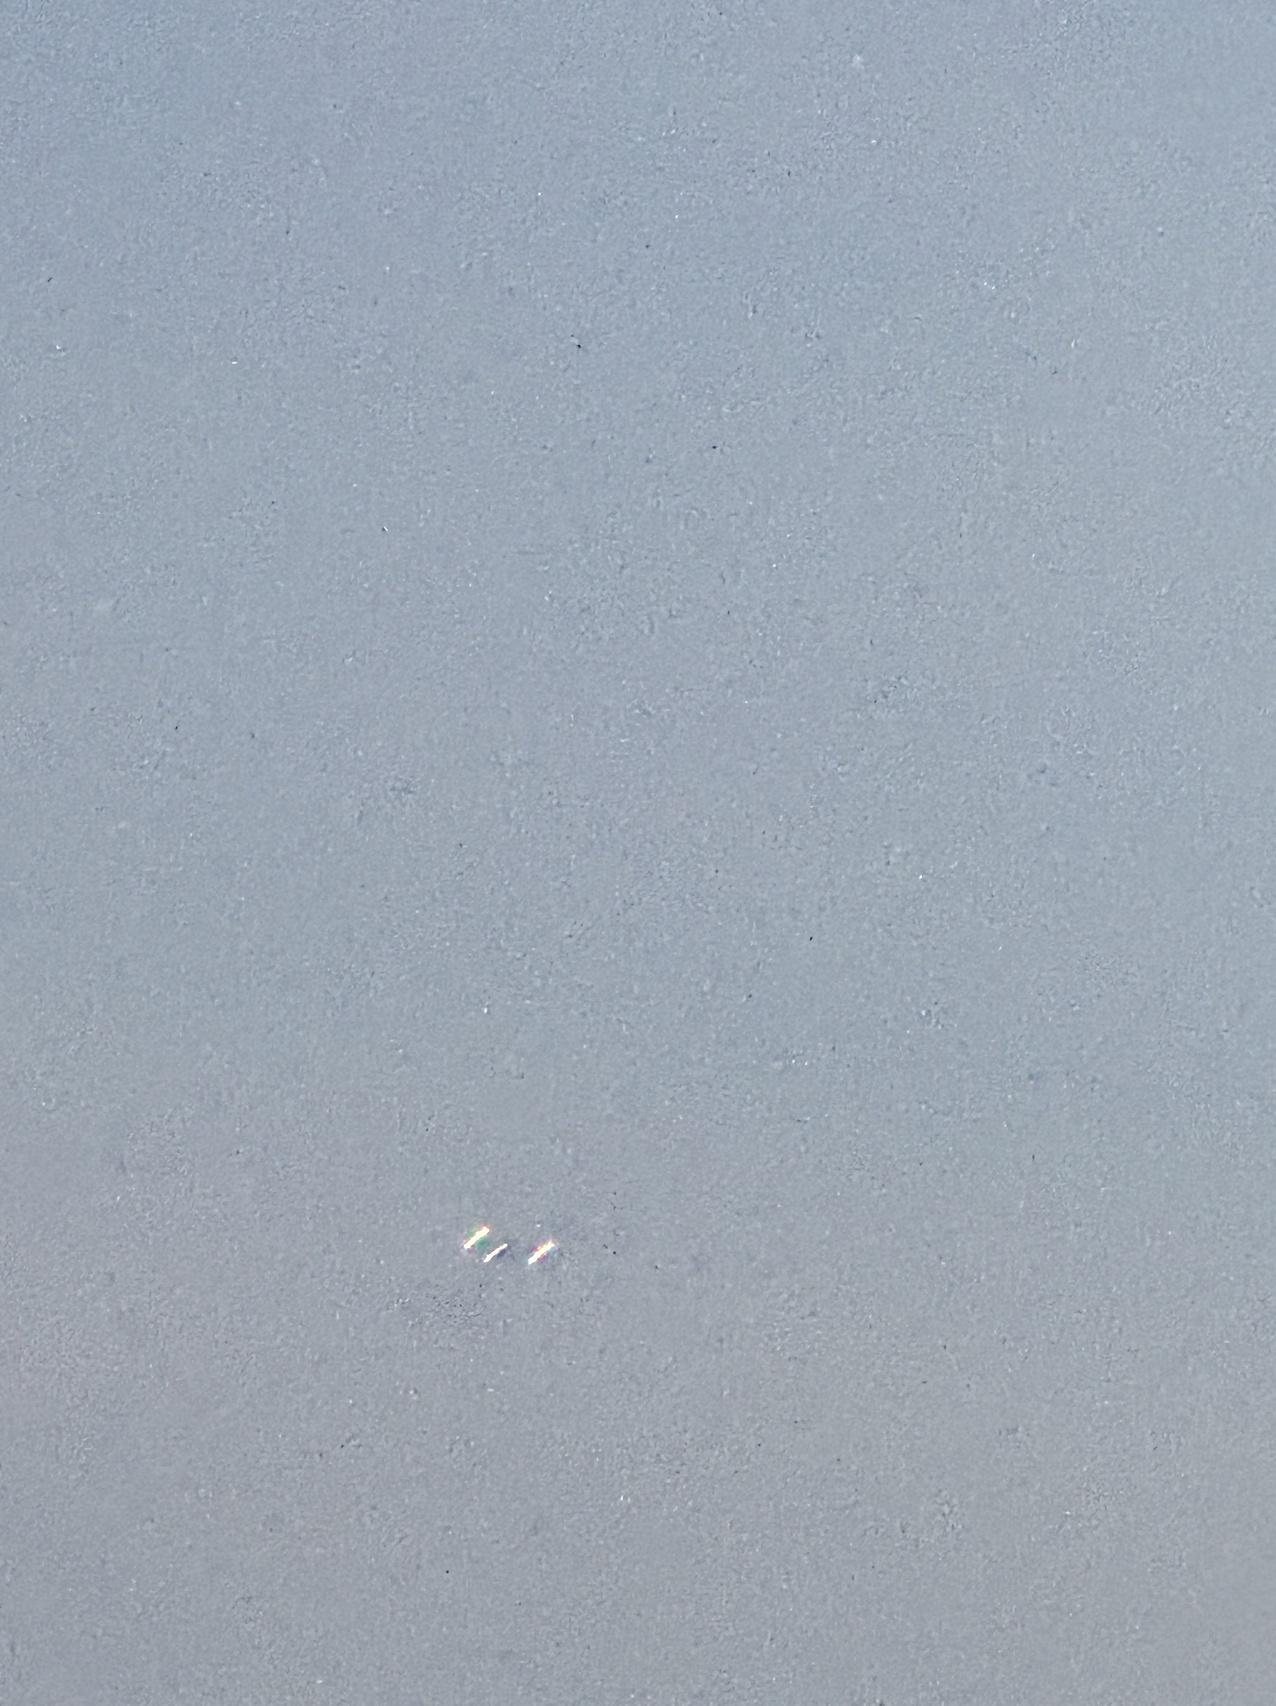Plane: (432, 1206, 596, 1284)
